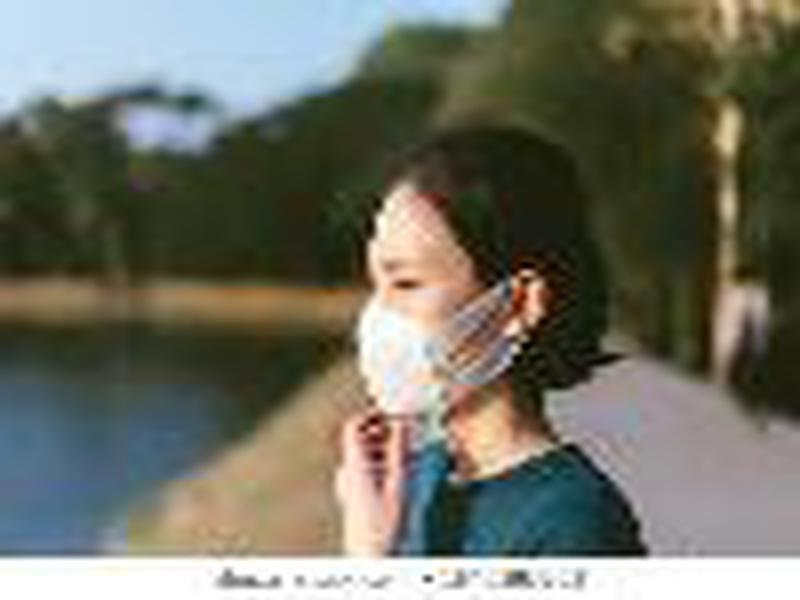with_mask: (348, 123, 618, 429)
